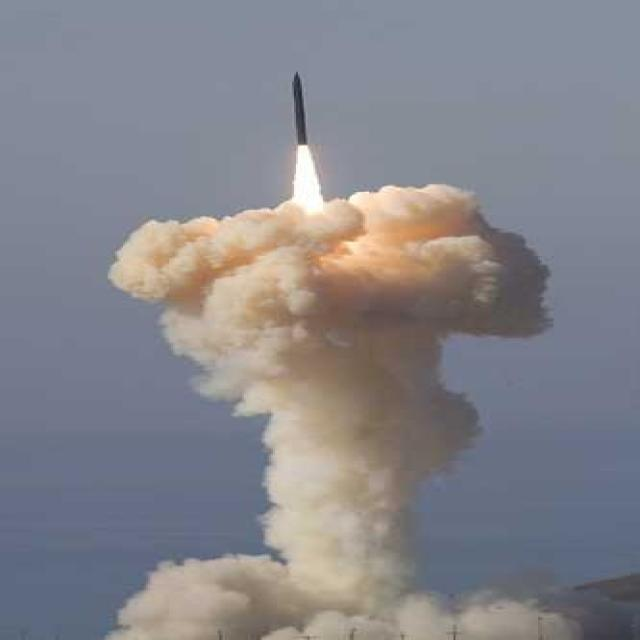missile: (289, 69, 314, 145)
